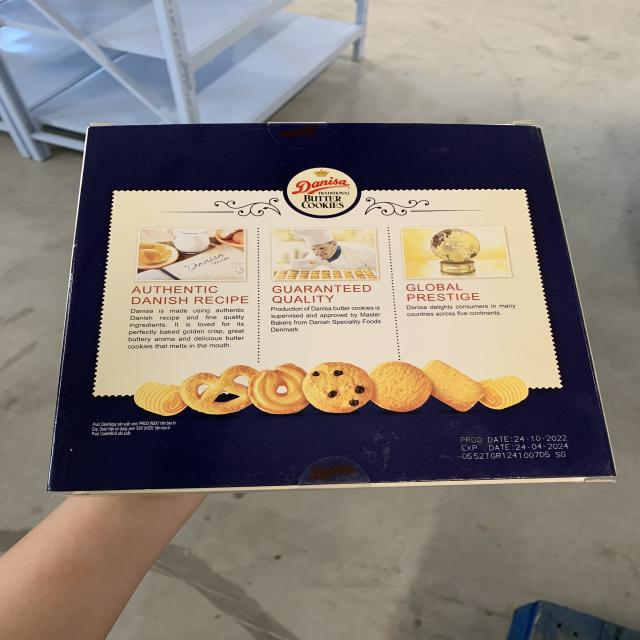object_name: (55, 122, 597, 489)
